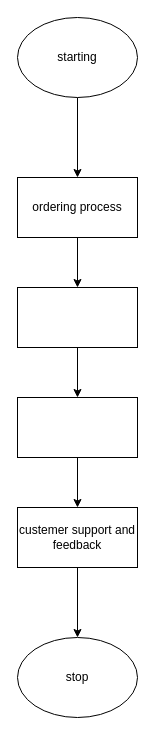
This 155x735 diagram has some shape labels left out. The shapes that lost their labels are listed below. From the top down, each one's centre as x and y in pixels, then its label:
At [77,317]: "restuarant and partner integration".
At [77,427]: "order fullfillment and delivery".
